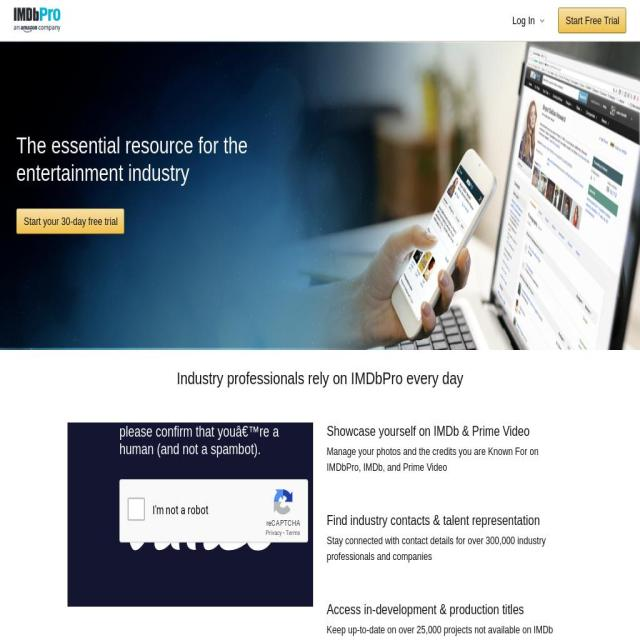button: (17, 209, 124, 233), (559, 8, 626, 32), (512, 14, 544, 27)
iframe: (68, 422, 314, 608)
image: (0, 42, 640, 350), (14, 8, 61, 32), (540, 18, 545, 22)
text: (16, 132, 248, 186), (326, 534, 546, 563), (326, 445, 539, 473), (176, 368, 463, 388), (326, 512, 540, 528), (326, 423, 530, 439), (326, 602, 524, 618), (326, 623, 553, 636), (512, 14, 537, 27)
